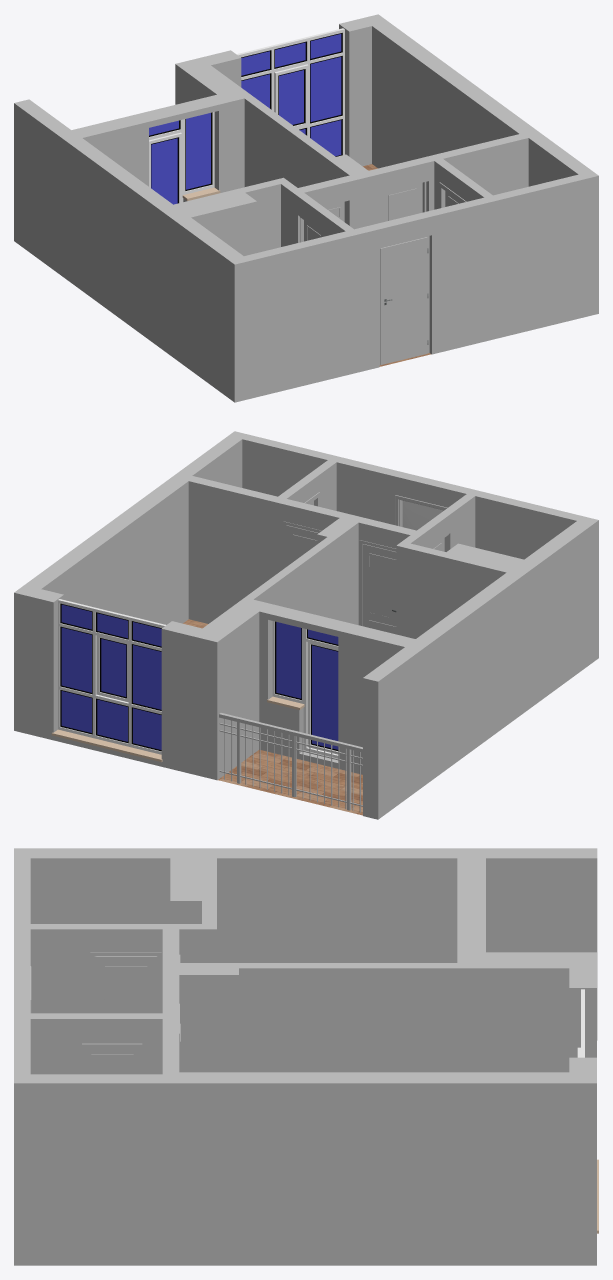
Rendered from house.obj.
3 views of the same model, one above another, from view 1: azimuth 30°, elevation 25°; view 2: azimuth 150°, elevation 25°; view 3: azimuth 270°, elevation 25° (orthographic). The views are drawn at different scales.
Parts seen in each view (by area): view 1: Walls, Window, dvere, Window.002, Window.001, Door.004, ram; view 2: Walls, Window, Floor, Window.001, Door.003, Window.002, Column.001, Door.004, Column, Cube, dvere; view 3: Walls, Door.002, Door.001, DoorFrame.001.
Part boxes in pixels (<box>): Walls: <box>14,14,598,402</box>; Window: <box>236,28,344,156</box>; dvere: <box>380,237,428,364</box>; Window.002: <box>182,112,220,200</box>; Window.001: <box>149,119,183,204</box>; Door.004: <box>386,182,422,221</box>; ram: <box>379,236,429,364</box>; Walls: <box>14,431,598,819</box>; Window: <box>51,599,165,762</box>; Floor: <box>183,619,362,815</box>; Window.001: <box>303,628,338,758</box>; Door.003: <box>362,544,396,634</box>; Window.002: <box>267,621,304,709</box>; Column.001: <box>224,718,360,812</box>; Door.004: <box>286,525,318,566</box>; Column: <box>237,722,351,810</box>; Cube: <box>219,713,362,752</box>; dvere: <box>402,500,443,530</box>; Walls: <box>14,848,597,1265</box>; Door.002: <box>94,956,157,1013</box>; Door.001: <box>82,1043,142,1074</box>; DoorFrame.001: <box>90,952,161,1013</box>.
Bounding box in the file's own units: 6.63 × 2.4 × 6.98.
Materials: 11 (1 with a texture image).
